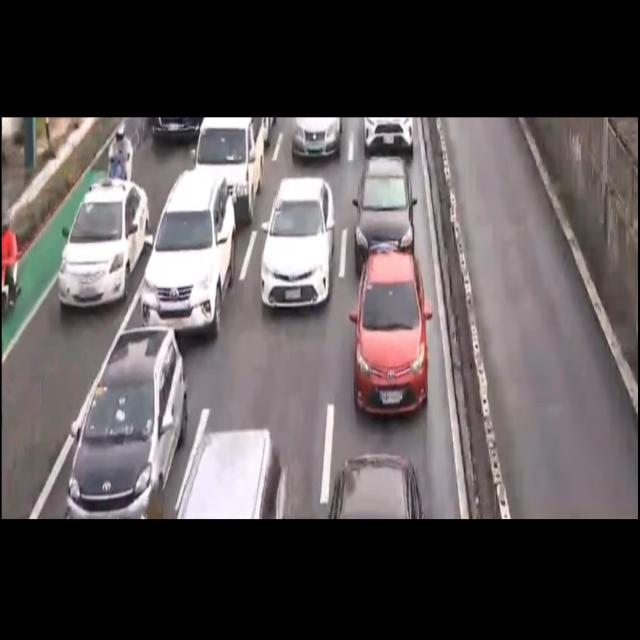Motorcycle: (102, 129, 132, 191), (1, 214, 18, 318)
SUV: (138, 176, 237, 335), (169, 434, 290, 514)
Sedan: (66, 332, 184, 524), (353, 255, 427, 413), (62, 178, 146, 302), (264, 173, 329, 313), (351, 153, 414, 268), (330, 450, 423, 514)
Van: (194, 111, 262, 224)
